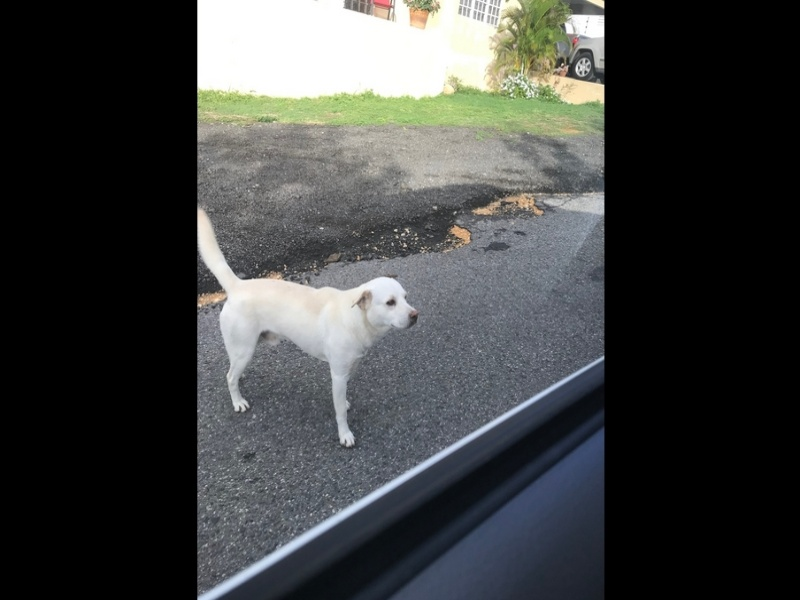dog: (198, 190, 424, 452)
